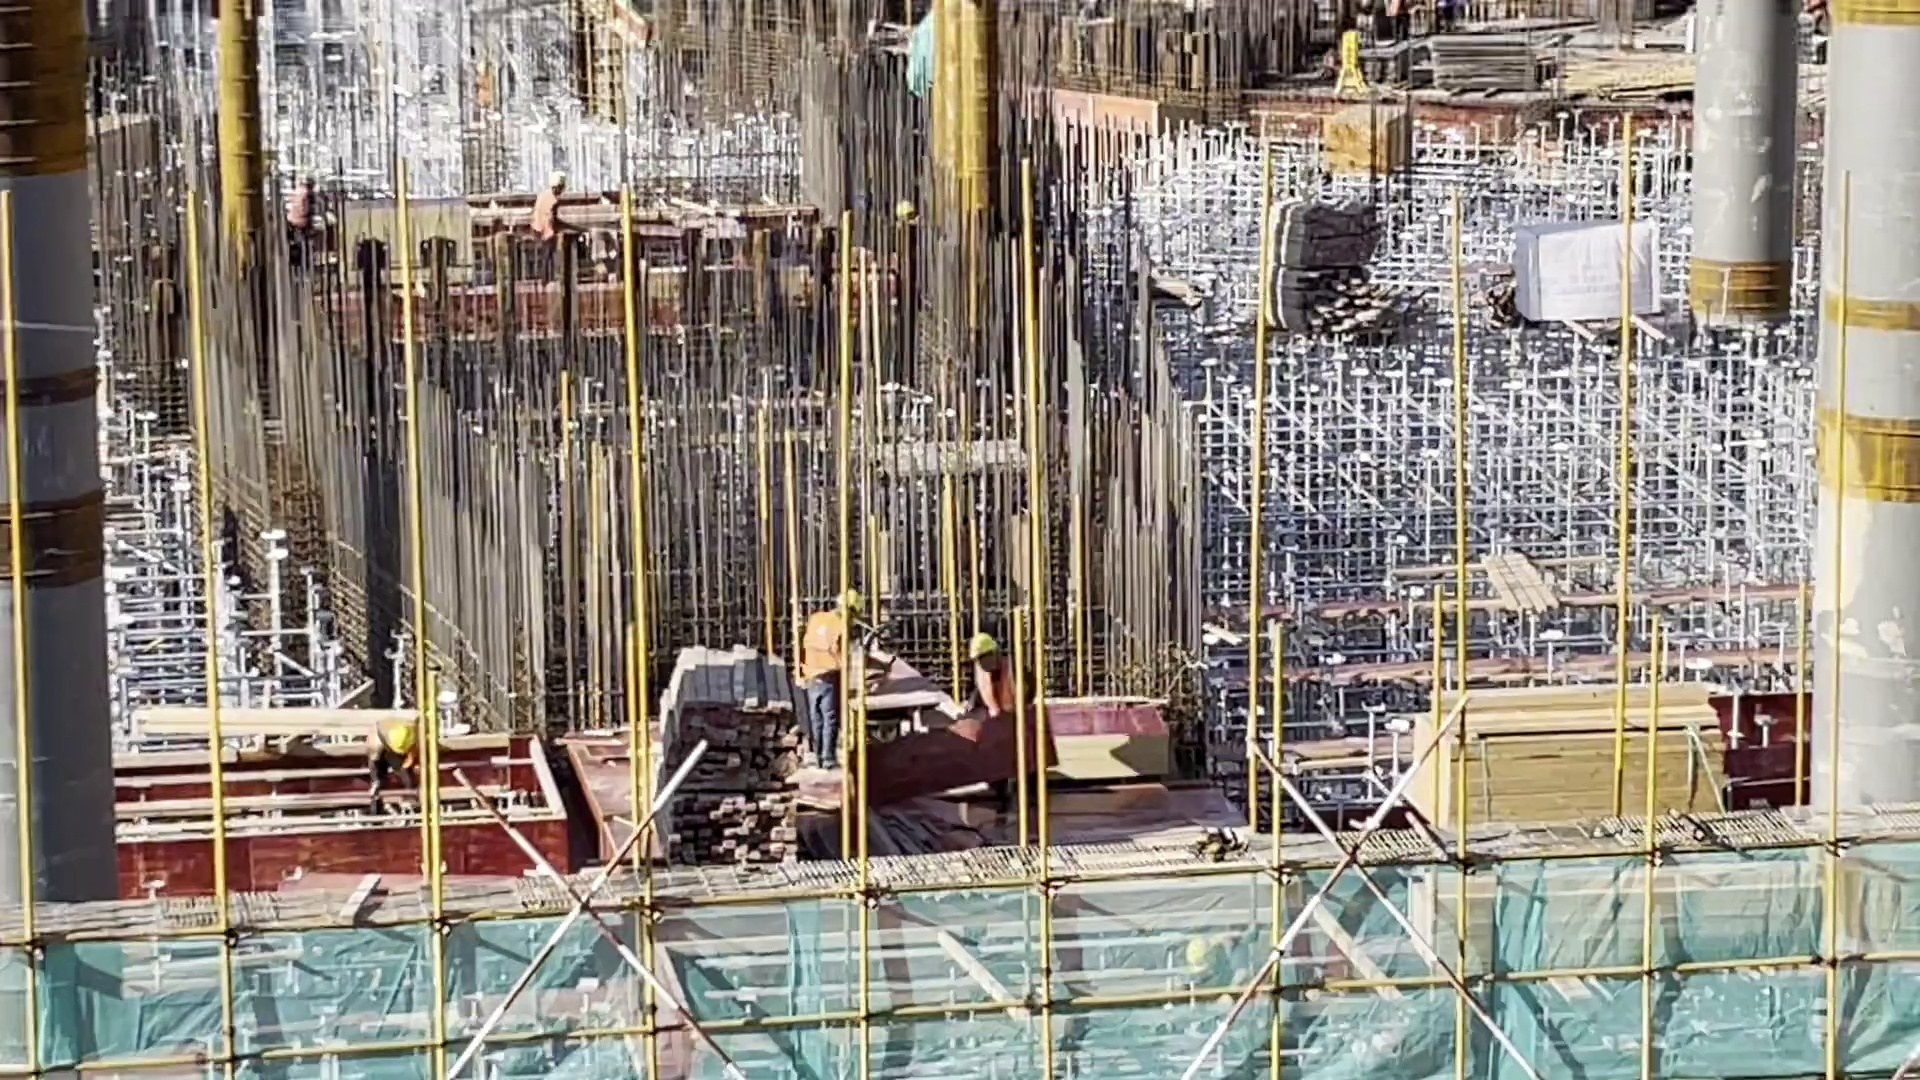helmet: (839, 588, 866, 616), (961, 632, 991, 655), (383, 730, 411, 753), (549, 177, 564, 190), (300, 171, 314, 183)
person: (786, 589, 870, 763), (963, 636, 1035, 826), (359, 719, 436, 804), (524, 172, 581, 241), (276, 167, 320, 252)
vest: (803, 607, 843, 679), (976, 669, 1023, 719), (532, 190, 554, 234), (290, 190, 310, 223)
